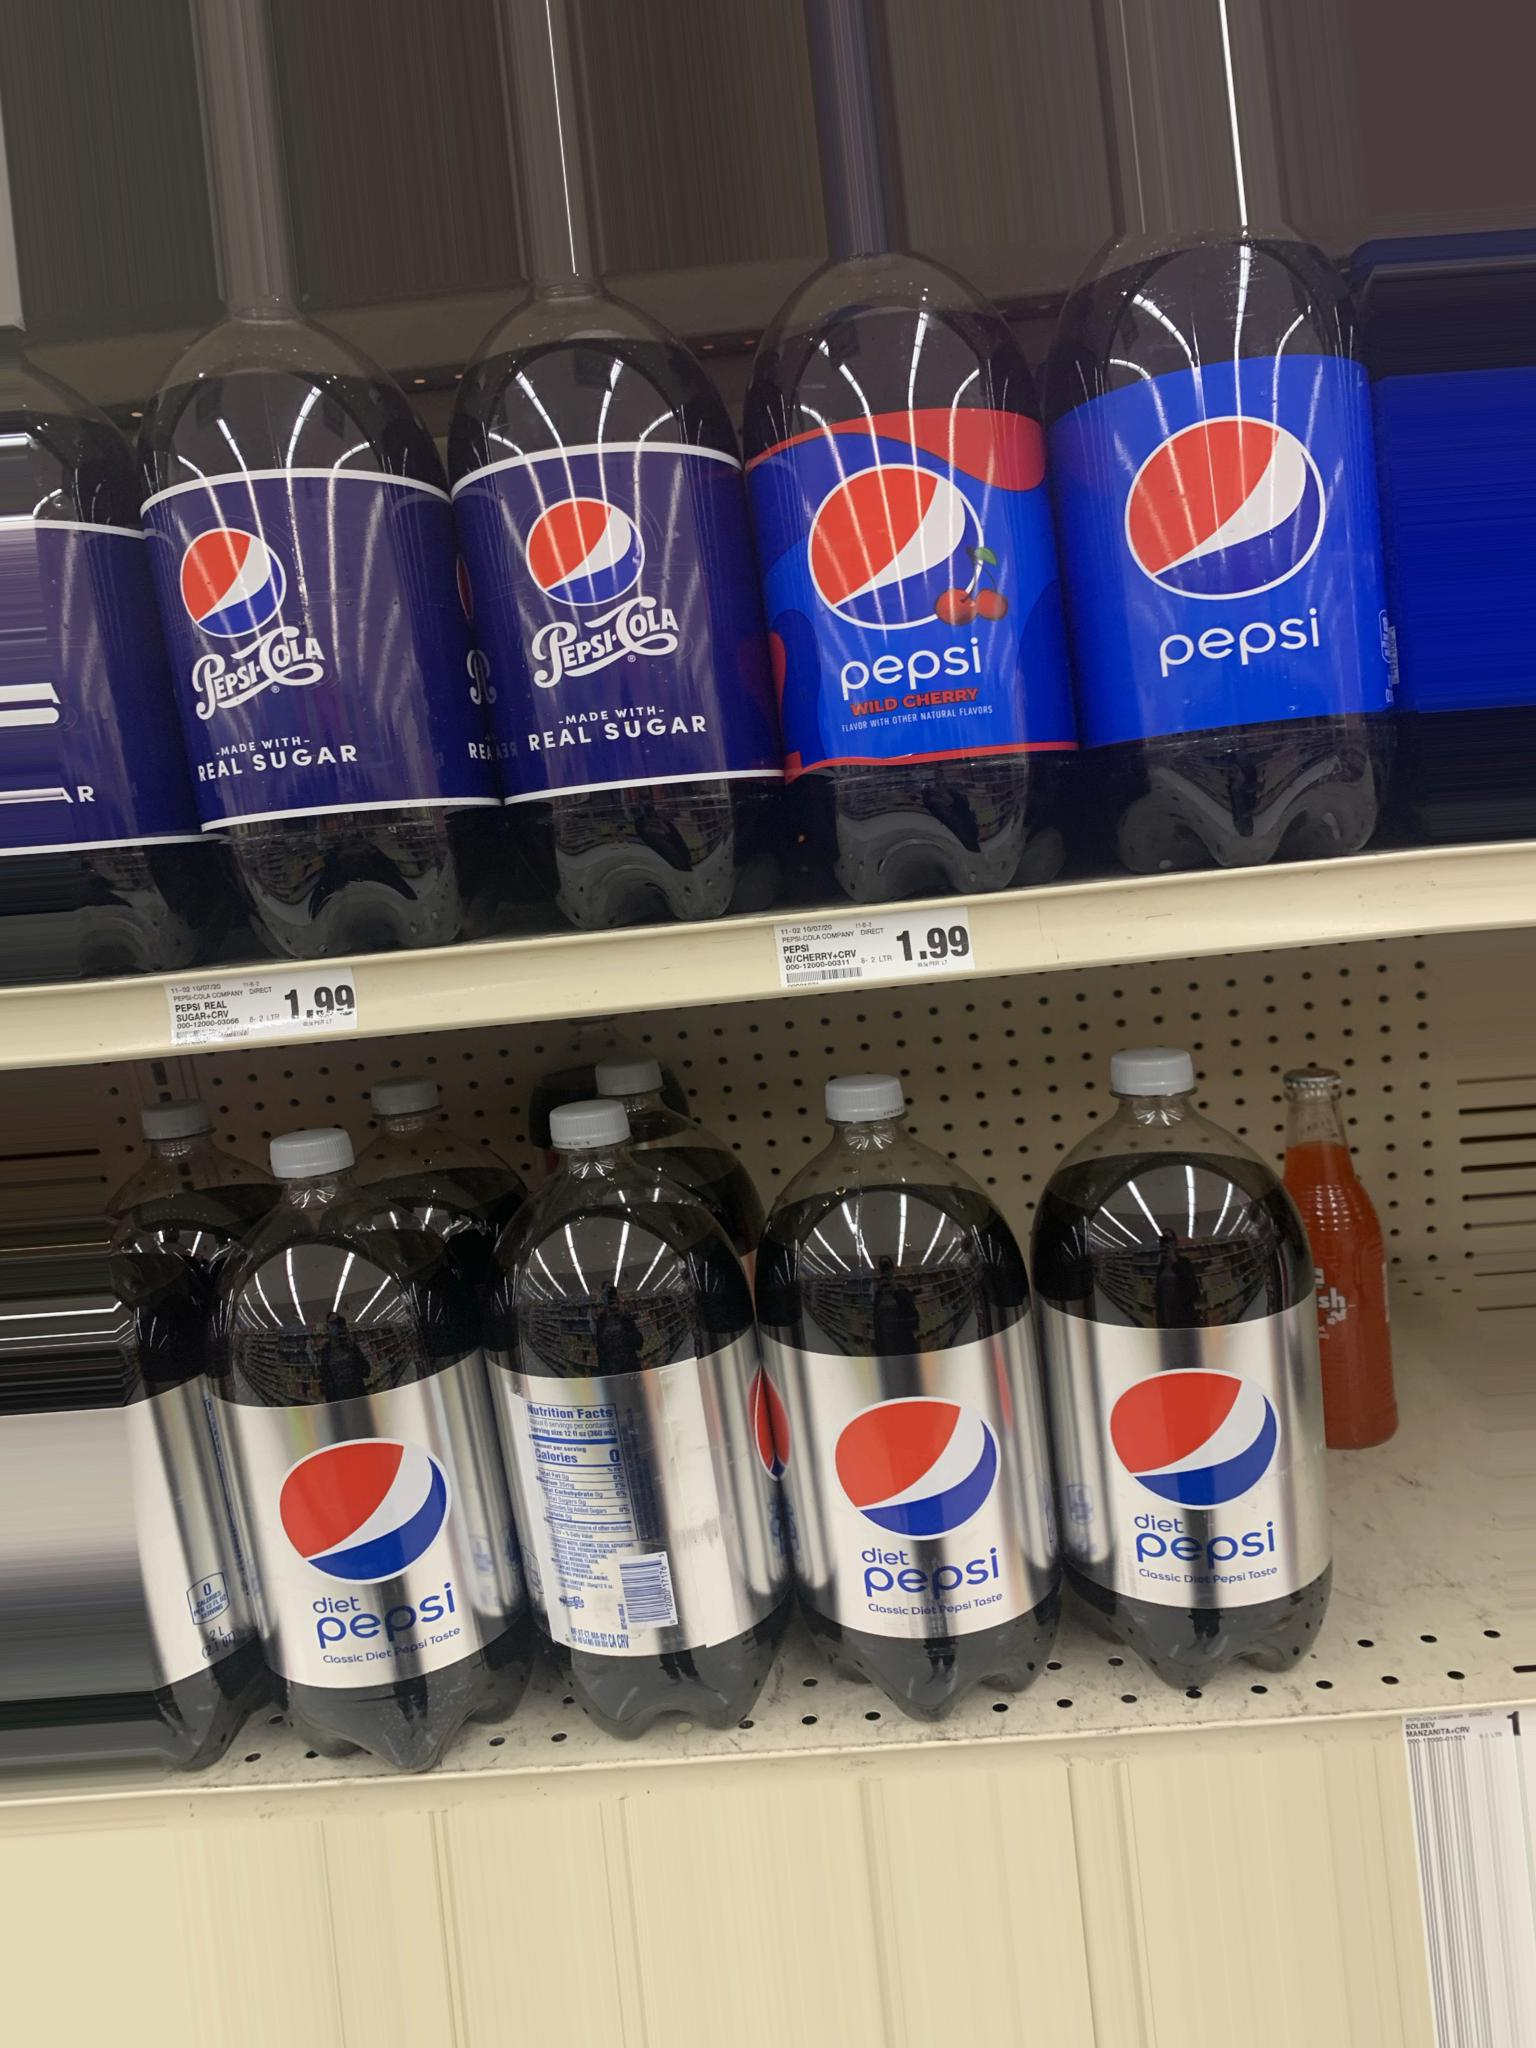soda: (1041, 1076, 1370, 1685), (742, 285, 1055, 876), (453, 290, 745, 922), (160, 298, 431, 950), (210, 1184, 490, 1758), (500, 1148, 774, 1716), (776, 1105, 1021, 1688)
